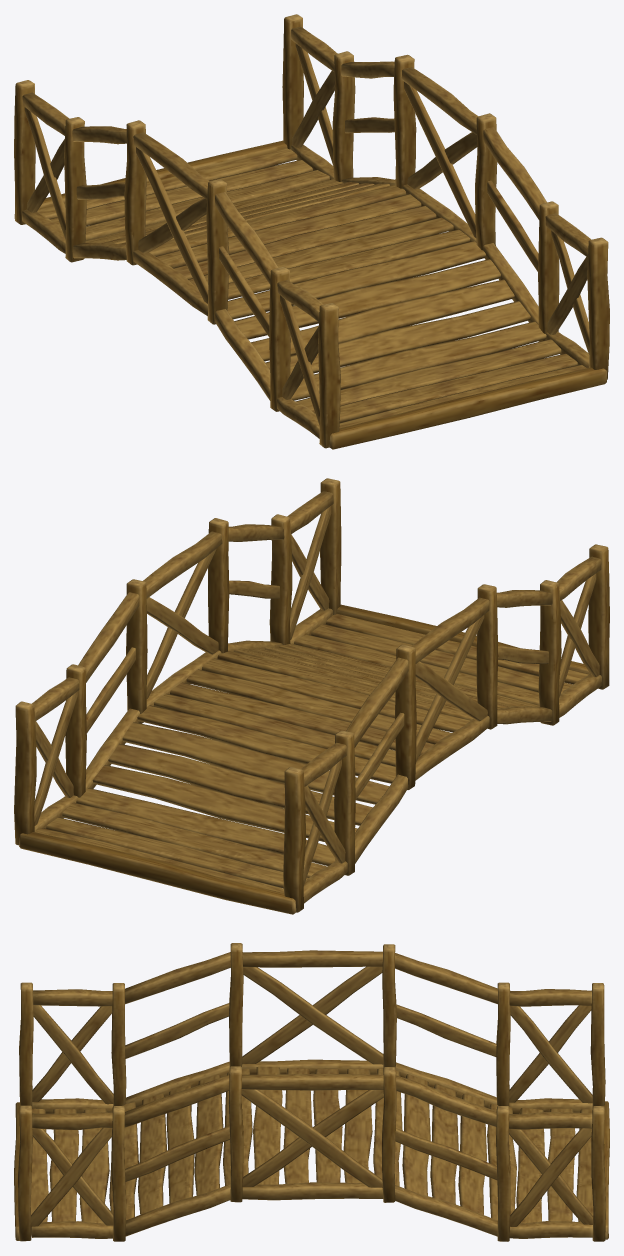
The model's file is BridgeCol.fbx.
The picture shows the model from 3 angles, top to bottom: view 1: azimuth 30°, elevation 25°; view 2: azimuth 150°, elevation 25°; view 3: azimuth 270°, elevation 25°; orthographic projection. The views are drawn at different scales.
Visible parts, largest first — view 1: BridgeCol_LOD0; view 2: BridgeCol_LOD0; view 3: BridgeCol_LOD0.
Boxes of the visible parts, <box> form: BridgeCol_LOD0: <box>14,14,609,449</box>; BridgeCol_LOD0: <box>14,478,609,914</box>; BridgeCol_LOD0: <box>14,943,609,1241</box>.
Size of the model in its own units: 231 by 445 by 142.
1 material, 1 textured.
